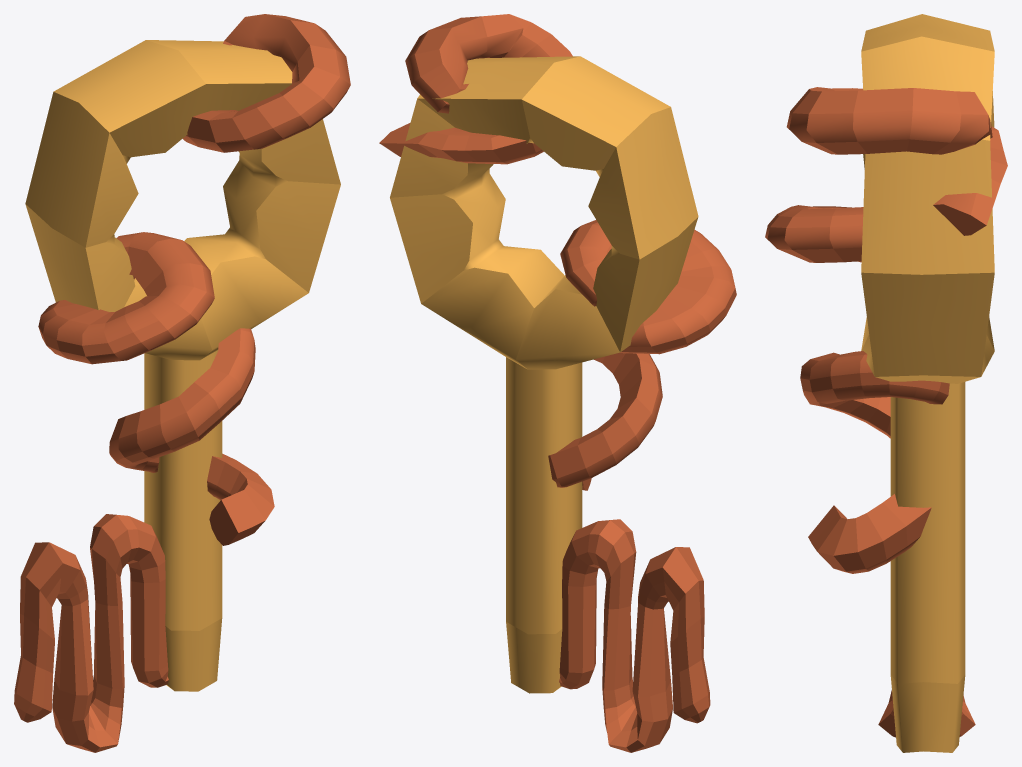
The model's file is LlaveIntestino.fbx.
3 views of the same model, side by side, from view 1: azimuth 30°, elevation 25°; view 2: azimuth 150°, elevation 25°; view 3: azimuth 270°, elevation 25° (orthographic). The views are drawn at different scales.
Parts seen in each view (by area): view 1: si.003, Cylinder.004; view 2: si.003, Cylinder.004; view 3: si.003, Cylinder.004.
Boxes of the visible parts, left/top/right/bottom form: si.003: left=25, top=40, right=340, bottom=691; Cylinder.004: left=14, top=14, right=350, bottom=752; si.003: left=390, top=56, right=698, bottom=693; Cylinder.004: left=379, top=14, right=736, bottom=752; si.003: left=861, top=14, right=994, bottom=752; Cylinder.004: left=765, top=87, right=1007, bottom=737.
Bounding box in the file's own units: 44.4 × 93.19 × 27.11.
